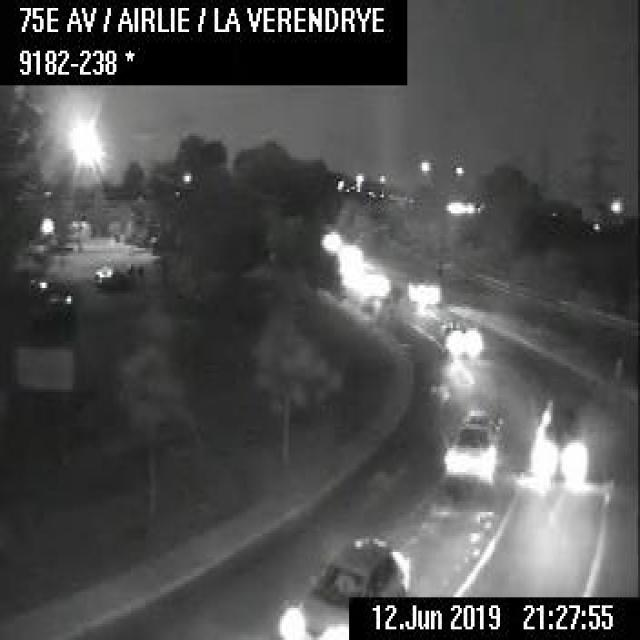vehicle: (276, 531, 408, 637), (440, 403, 505, 493), (529, 394, 580, 474), (440, 315, 480, 360), (92, 262, 130, 289), (416, 280, 446, 304)
